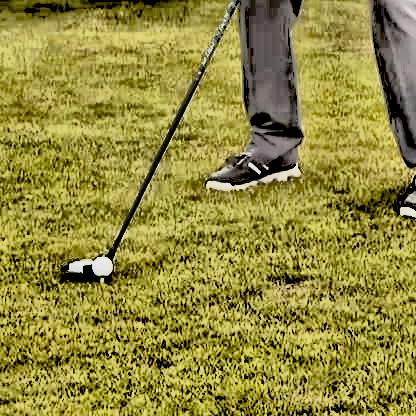golfball: (89, 252, 108, 274)
